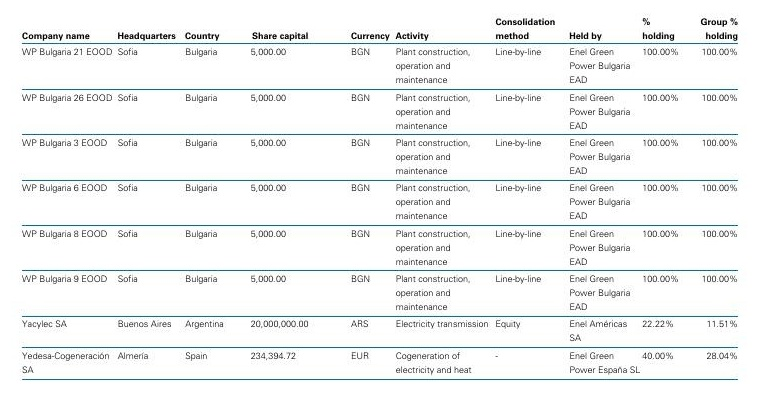table: (0, 0, 758, 395)
